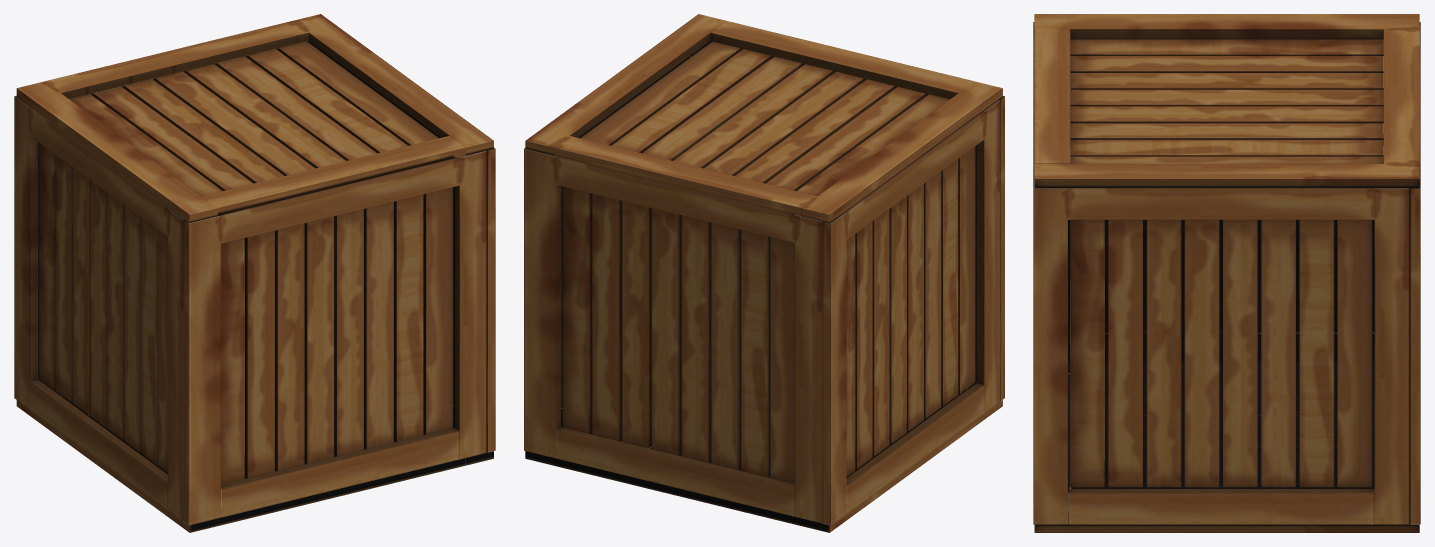
The model's file is sweethome3d-blendswap-cc-0-crate.glb.
3 renders of one model, left to right at view 1: azimuth 30°, elevation 25°; view 2: azimuth 150°, elevation 25°; view 3: azimuth 270°, elevation 25°, orthographic. The views are drawn at different scales.
Visible parts, largest first — view 1: Cube.001_Cube.012; view 2: Cube.001_Cube.012; view 3: Cube.001_Cube.012.
Part boxes in pixels (x1,y1,x2,y2): Cube.001_Cube.012: (14,14,495,532); Cube.001_Cube.012: (524,14,1004,532); Cube.001_Cube.012: (1033,14,1420,532).
Bounding box in the file's own units: 60 × 59.39 × 58.9.
Materials: 1 (1 with a texture image).
